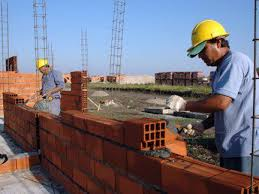casco: (186, 19, 231, 52), (35, 58, 50, 70)
